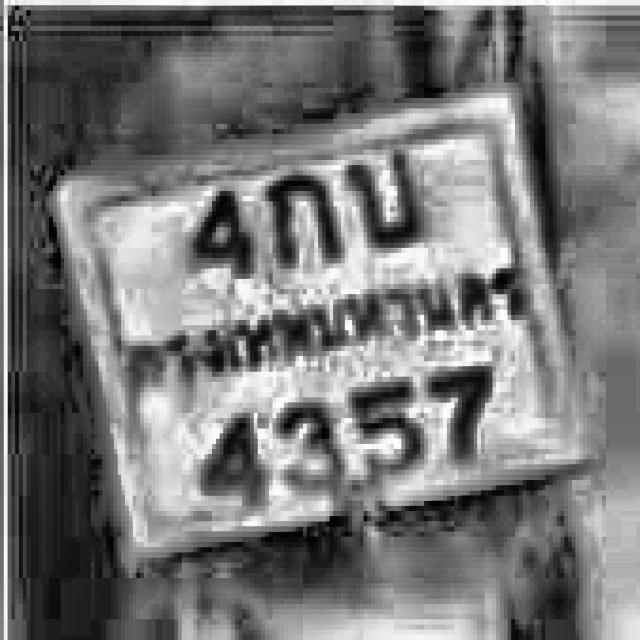license-plate: (32, 69, 600, 570)
